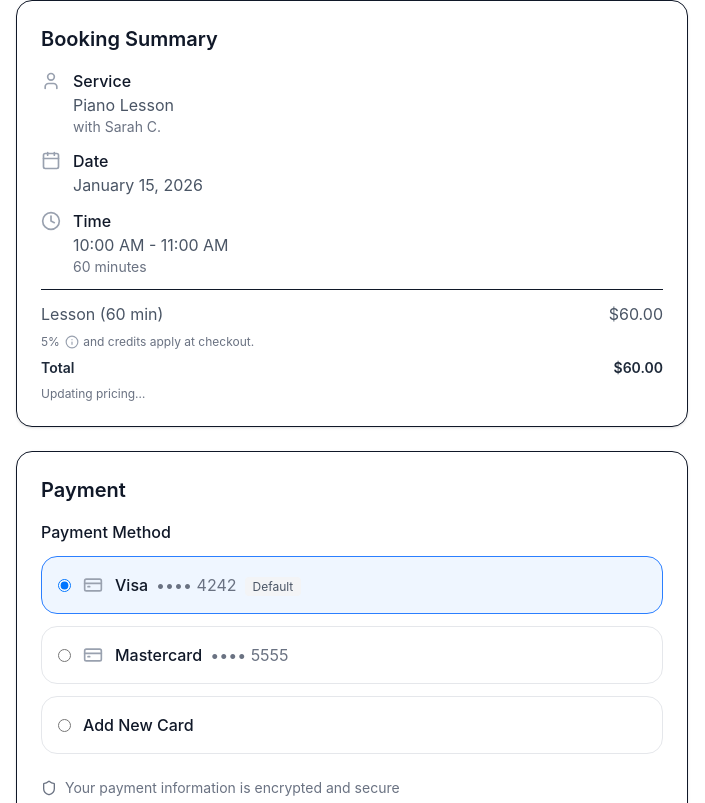
Test: CheckoutFlow › New card PaymentIntent creation error paths › shows error when checkout API throws during new-card intent creation
Click the text "Add New Card".
click(138, 725)  # box 83,715 -> 194,735
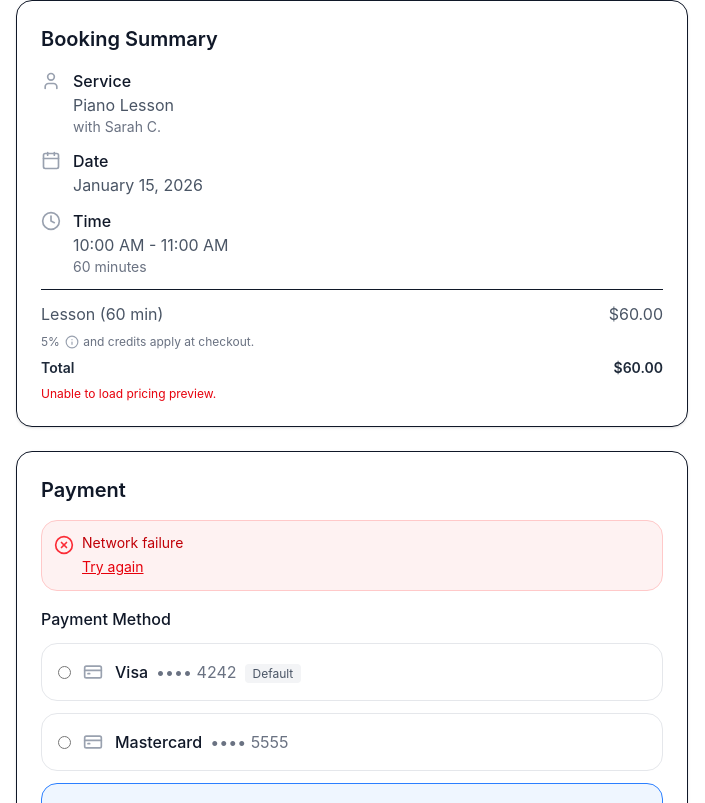
Now the text "Network failure" is shown, box 82,534 -> 183,551
